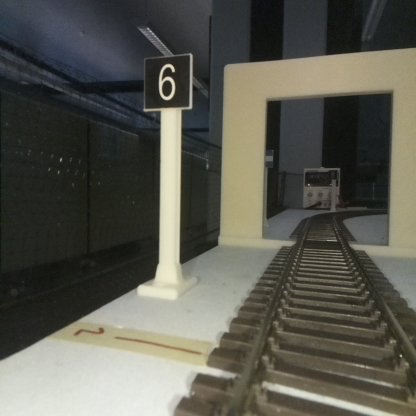black-info-6: (145, 56, 190, 293)
start: (263, 149, 273, 229)
